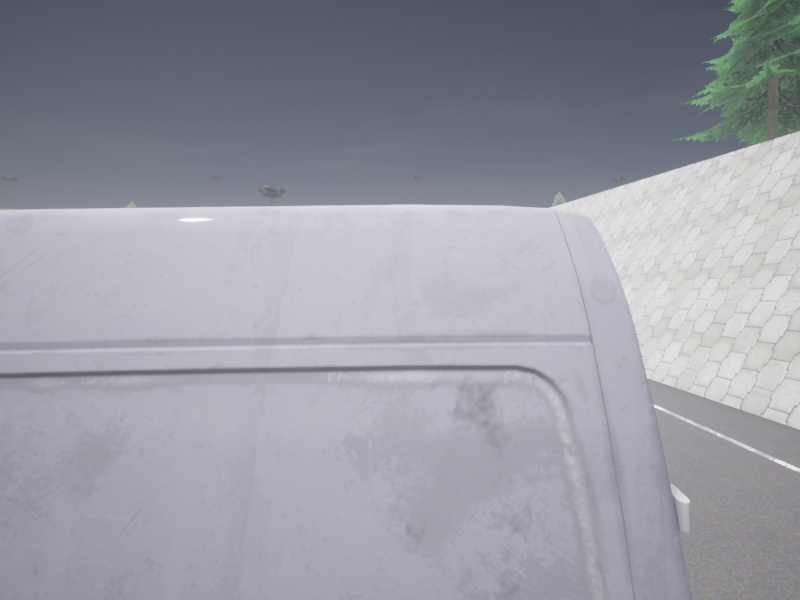vehicle: (0, 205, 690, 599)
